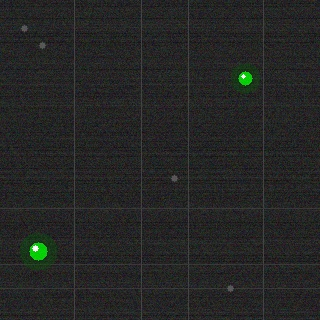green_normal: (27, 240, 49, 262), (236, 69, 254, 87)
